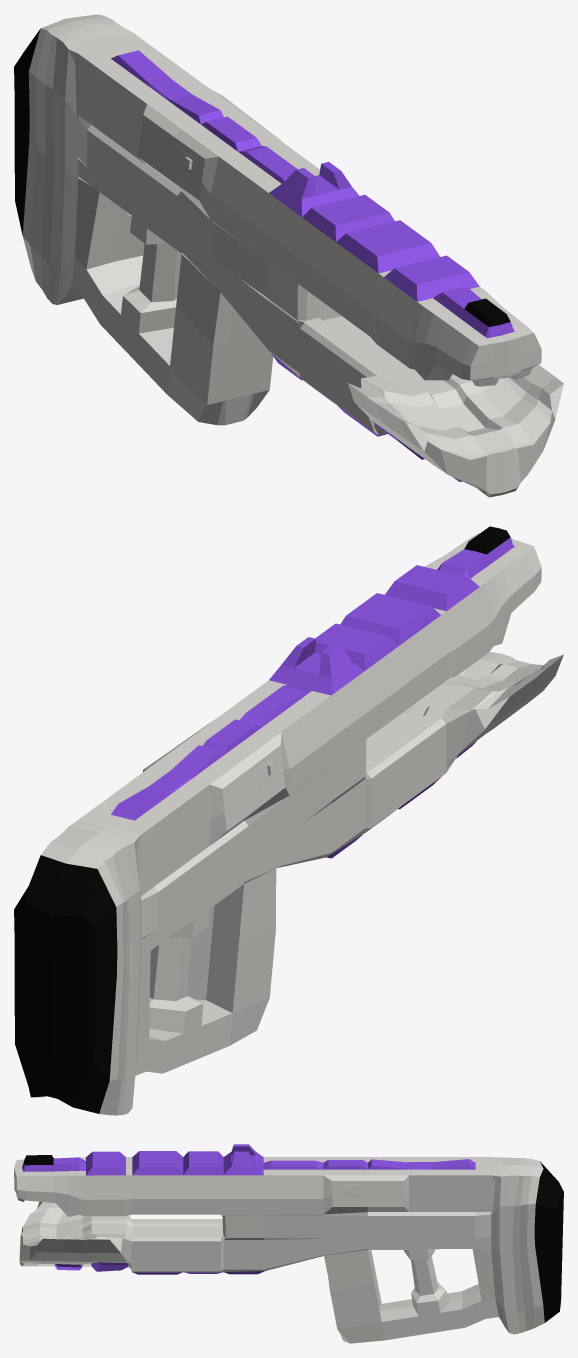
The model's file is Gun 1.fbx.
The picture shows the model from 3 angles, top to bottom: view 1: azimuth 30°, elevation 25°; view 2: azimuth 150°, elevation 25°; view 3: azimuth 270°, elevation 25°; orthographic projection. The views are drawn at different scales.
Visible parts, largest first — view 1: Gun; view 2: Gun; view 3: Gun.
Part boxes in pixels (x1,y1,x2,y2): Gun: [14, 14, 563, 497]; Gun: [14, 526, 563, 1115]; Gun: [14, 1144, 563, 1343].
Size of the model in its own units: 746 by 1383 by 3664.
